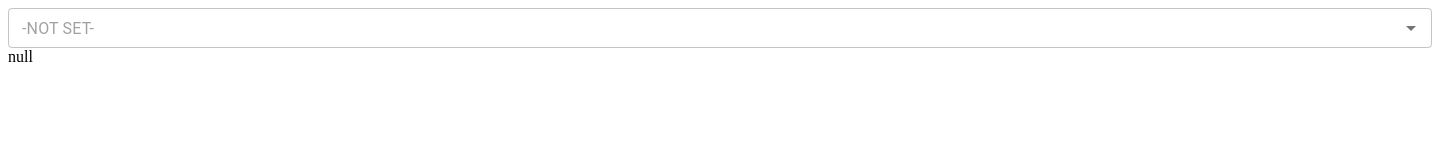
Test: ReferralsAutocomplete › fetches once on open and uses display labels with name fallback
The image size is (1440, 160).
Step 1. Click the button named "Open" → coordinates (1411, 28), box x1=1397 y1=14 x2=1425 y2=42
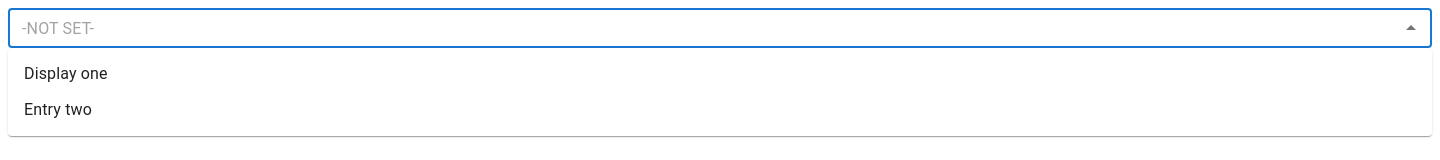
Expected: the option "Display one" is shown
Expected: the option "Entry two" is shown, x1=24 y1=100 x2=92 y2=119
Step 2. Click the option "Display one" → coordinates (66, 74), box x1=24 y1=64 x2=108 y2=83
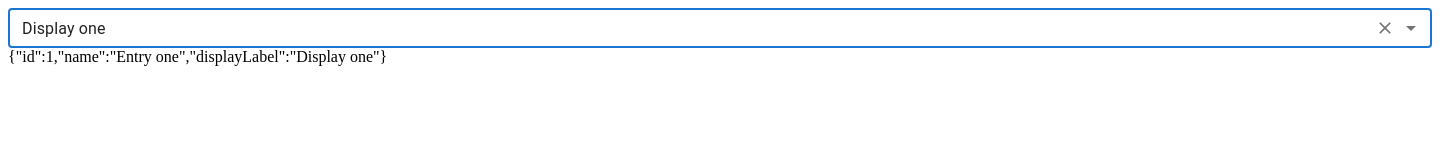
Step 3. Click the button named "Open" → coordinates (1411, 28), box x1=1397 y1=14 x2=1425 y2=42
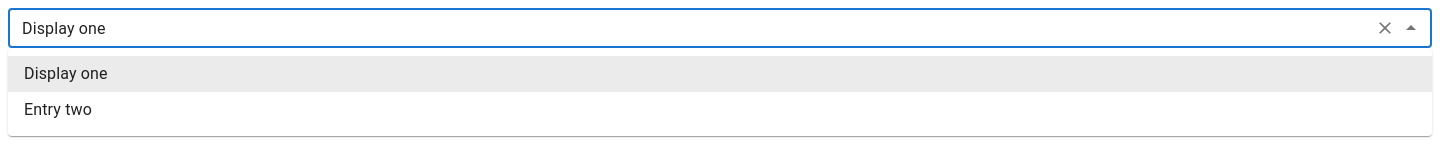
Expected: the list is shown, x1=8 y1=48 x2=1432 y2=136
